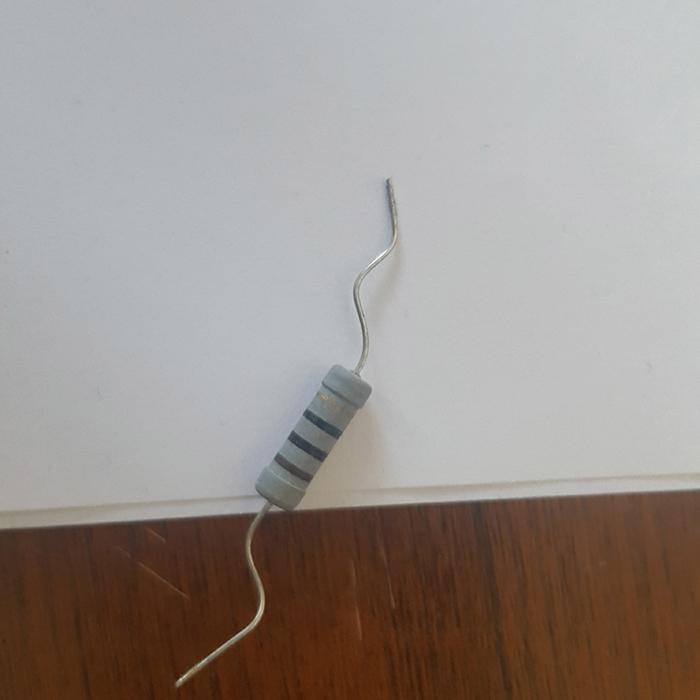resistor: (254, 360, 374, 511)
